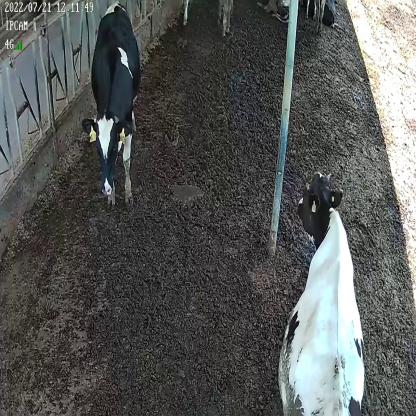cow: (277, 169, 365, 416), (82, 0, 141, 208)
